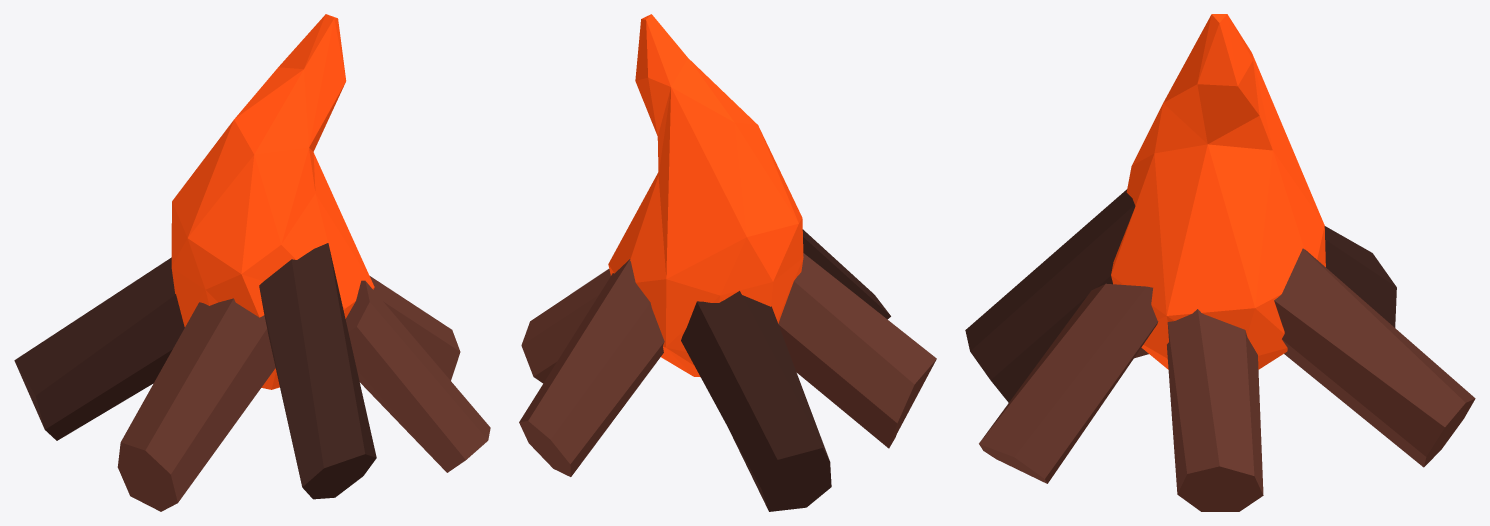
File: Woodfire.glb
The picture shows the model from 3 angles, left to right: view 1: azimuth 30°, elevation 25°; view 2: azimuth 150°, elevation 25°; view 3: azimuth 270°, elevation 25°; orthographic projection. The views are drawn at different scales.
Parts seen in each view (by area): view 1: WoodFire; view 2: WoodFire; view 3: WoodFire.
Boxes of the visible parts, box(x1,y1,x2,y2) form: WoodFire: box(14, 14, 490, 511); WoodFire: box(519, 14, 936, 511); WoodFire: box(965, 14, 1475, 511).
Size of the model in its own units: 77.56 by 82.81 by 82.66.
